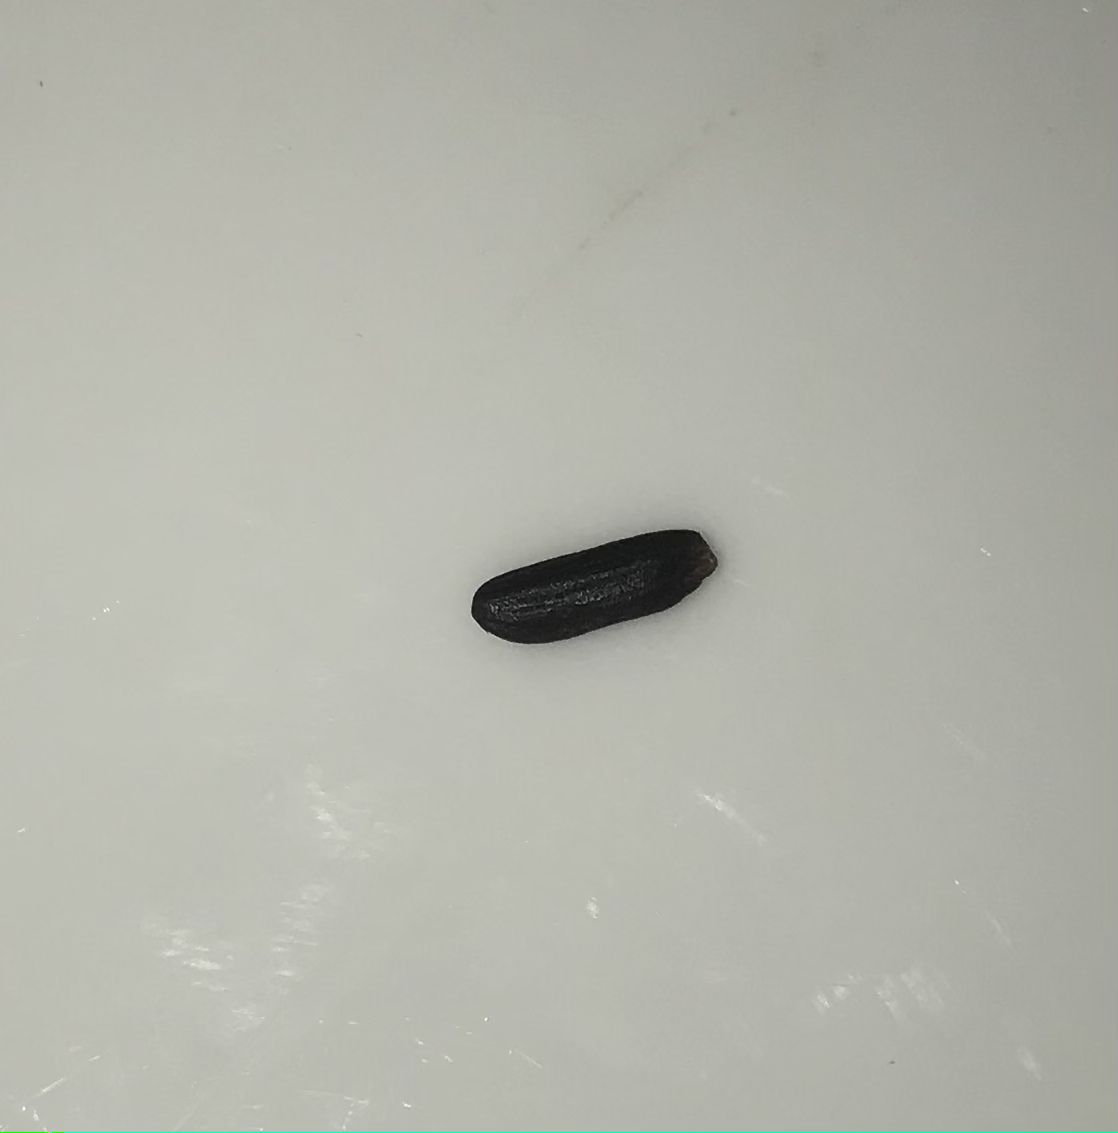Gao lut: (469, 526, 725, 646)
